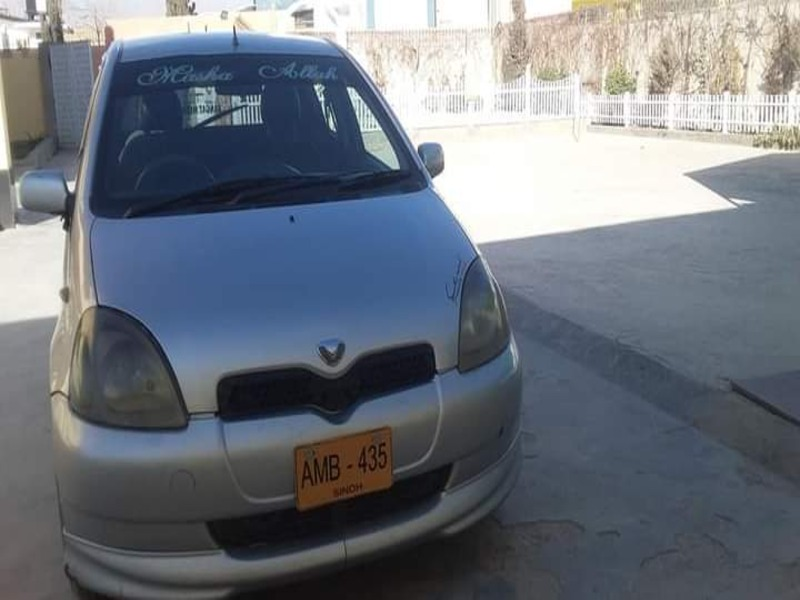License Plate: (288, 429, 399, 514)
